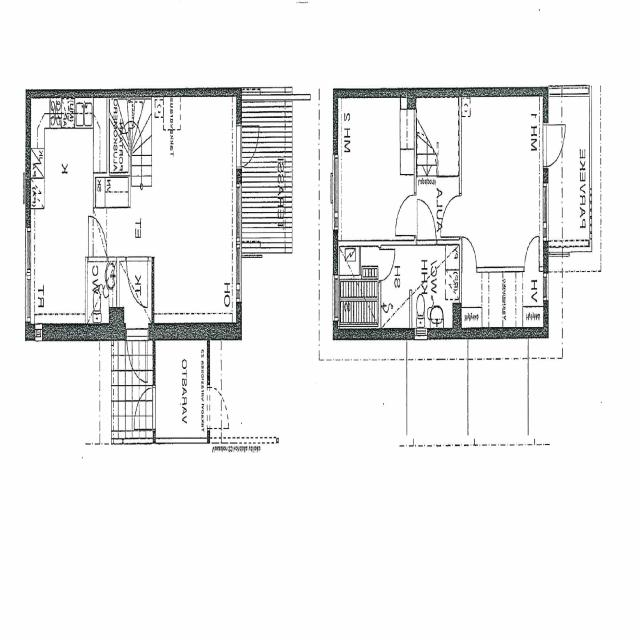door: (127, 321, 148, 384), (126, 257, 148, 308), (543, 123, 568, 166), (236, 124, 261, 166), (133, 386, 155, 429), (395, 193, 416, 234), (441, 195, 462, 236), (417, 201, 436, 245), (88, 218, 106, 262), (524, 235, 539, 272), (378, 249, 395, 280), (462, 237, 476, 272)
